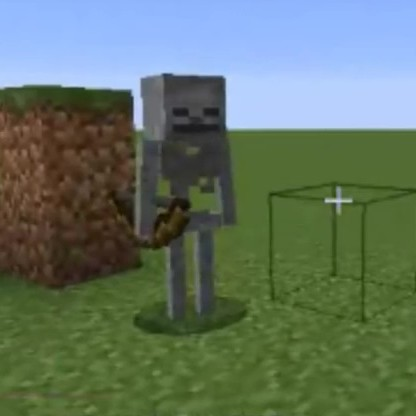skeleton: (131, 73, 243, 321)
